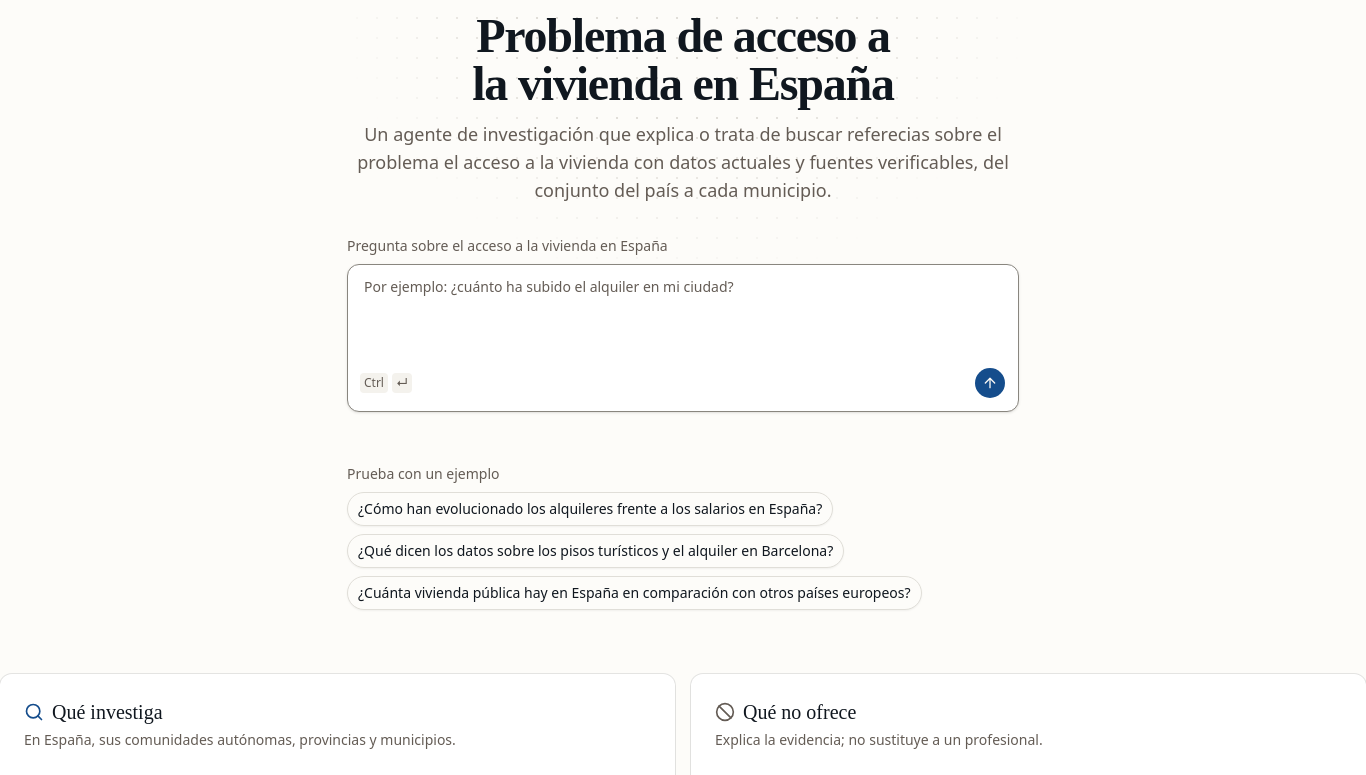
Test: ResearchRequestForm › confirms an accepted request
In the text box labelled "Pregunta sobre el acceso a la vivienda en España": (683, 313) [348,265,1018,361], type "¿Cuántas viviendas turísticas hay en Barcelona?"
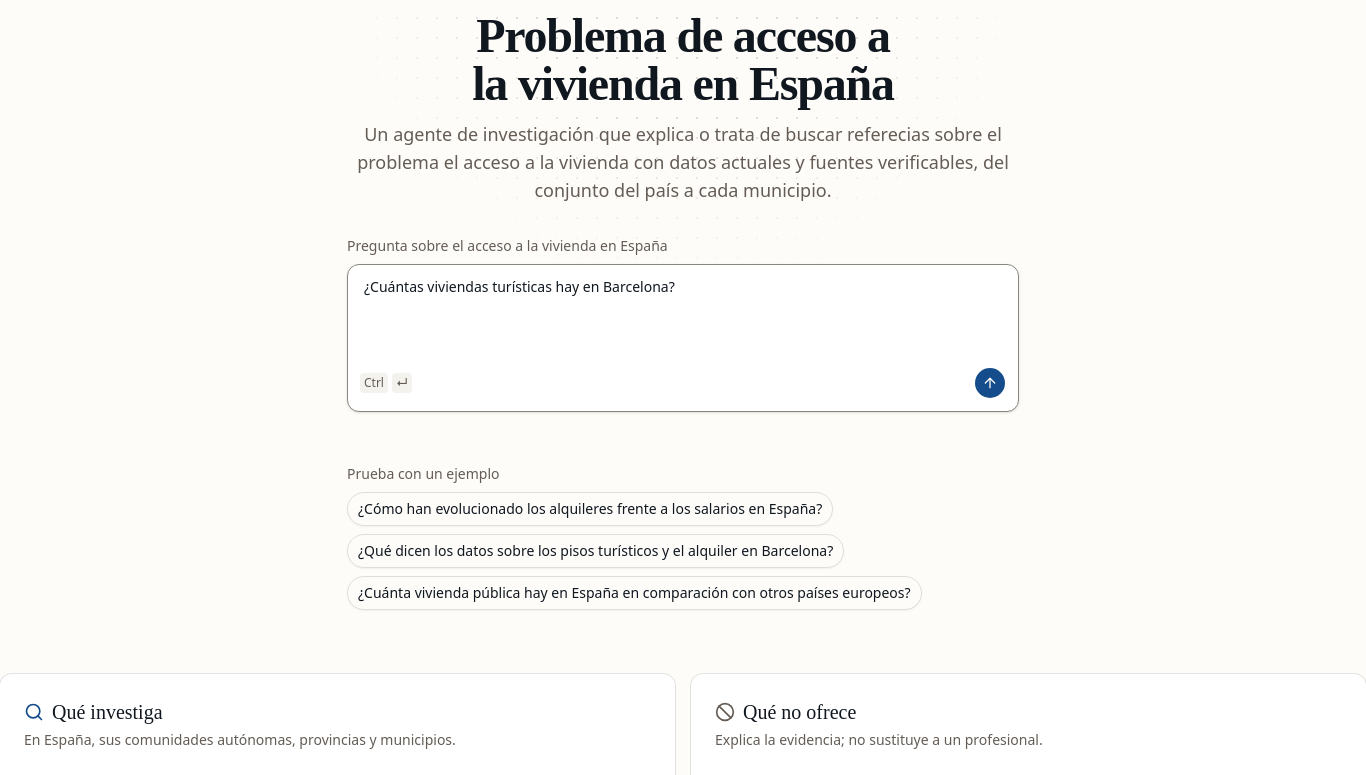
Submit the form, box [347,236,1019,440]
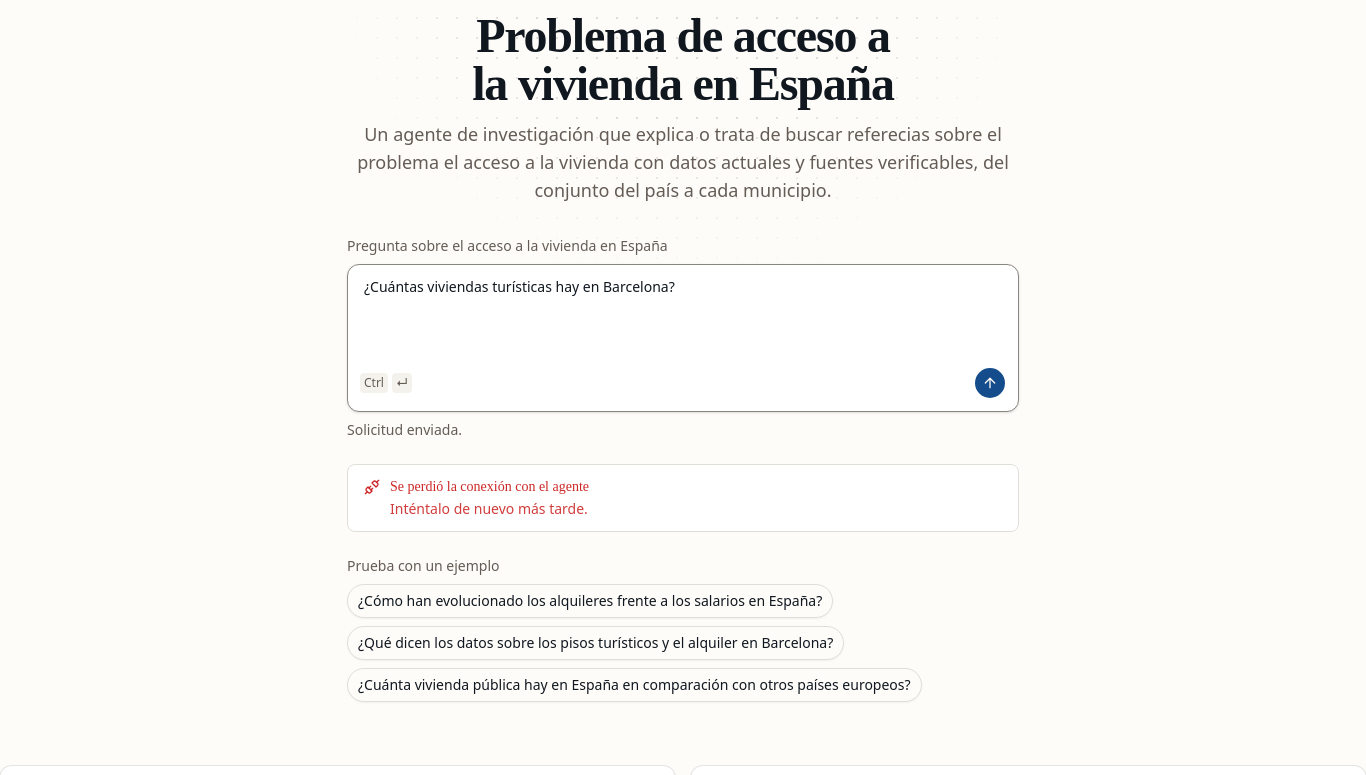
expect the text "Solicitud enviada." is shown: met, box [347,420,462,439]
